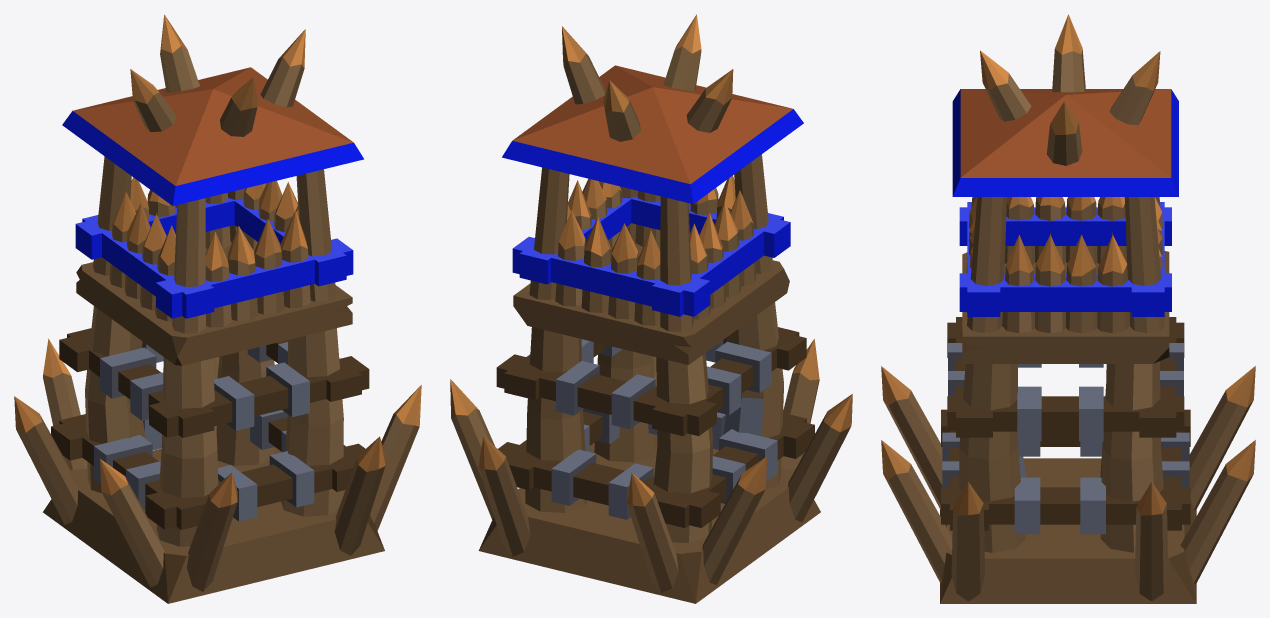
The model's file is Tower5.fbx.
3 renders of one model, left to right at view 1: azimuth 30°, elevation 25°; view 2: azimuth 150°, elevation 25°; view 3: azimuth 270°, elevation 25°, orthographic. The views are drawn at different scales.
Parts seen in each view (by area): view 1: Tower5; view 2: Tower5; view 3: Tower5.
Part boxes in pixels (x1=…): Tower5: x1=14, y1=14, x2=421, y2=603; Tower5: x1=450, y1=14, x2=852, y2=603; Tower5: x1=881, y1=14, x2=1255, y2=603.
Size of the model in its own units: 750 by 1100 by 750.
